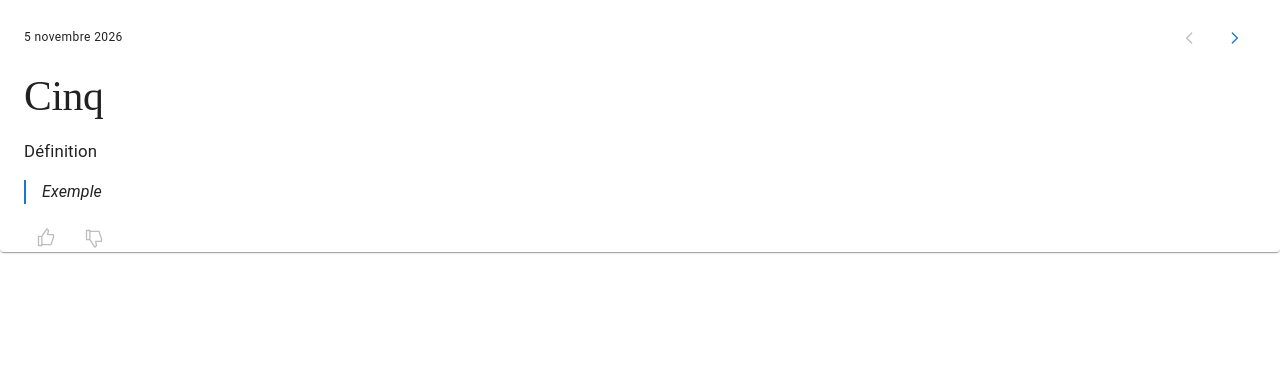
Scenario: propose de recommencer quand toutes les publications ont été vues
This screenshot has width=1280, height=370.
Click the button named "Autre découverte": coordinates (1234, 38) [1212,16,1256,60]
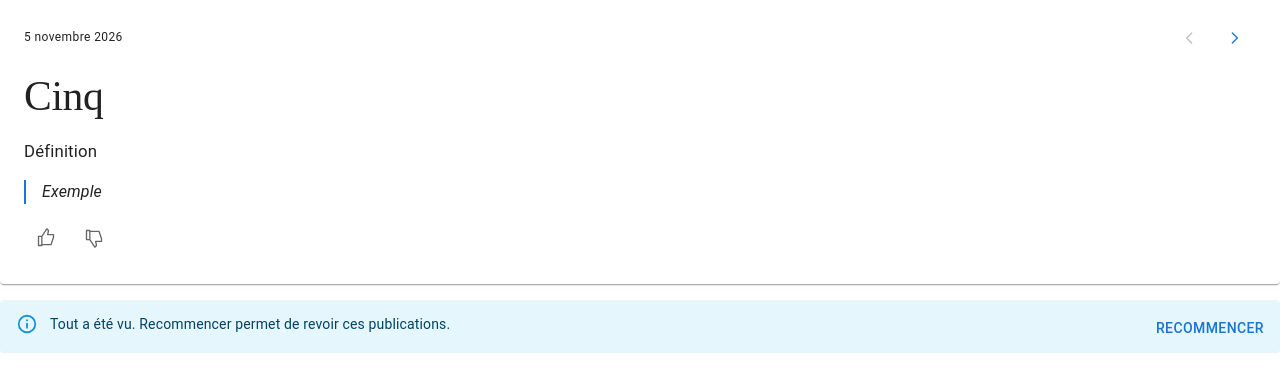
Check: the button "Recommencer" is shown, box [1148,310,1272,346]
